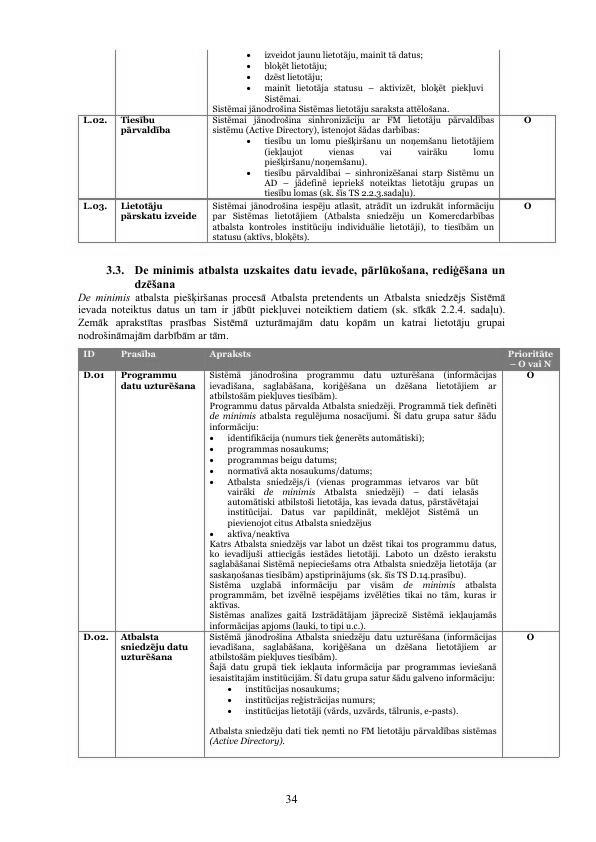table: (76, 347, 566, 765), (70, 47, 563, 248)
text: (74, 291, 513, 343), (100, 260, 510, 291)
